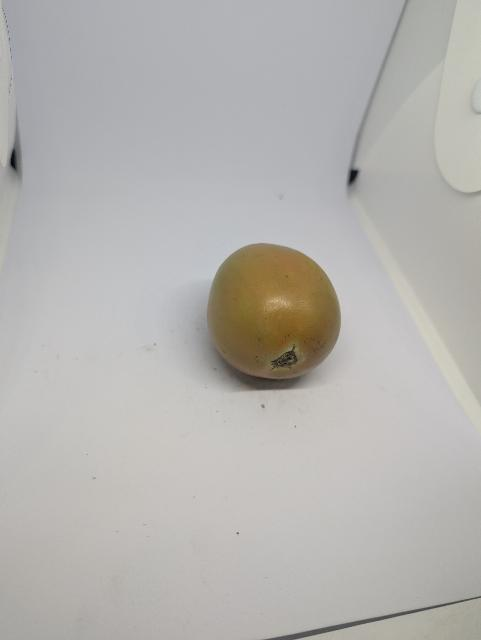breaker: (208, 243, 341, 379)
